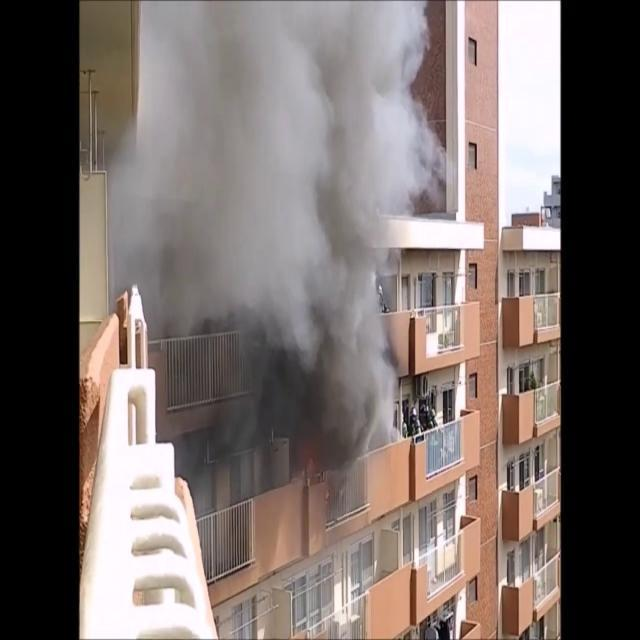Smoke: (110, 2, 414, 459)
